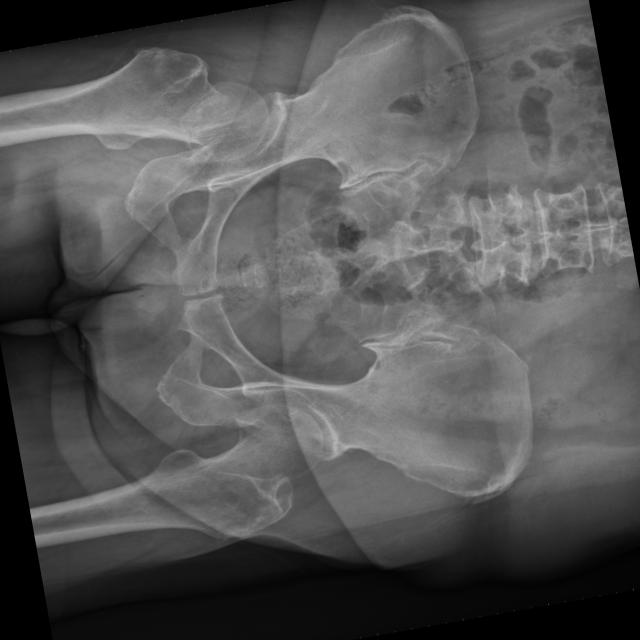normal-left: (77, 404, 322, 540)
right-neck: (14, 47, 226, 150), (179, 82, 269, 161)
